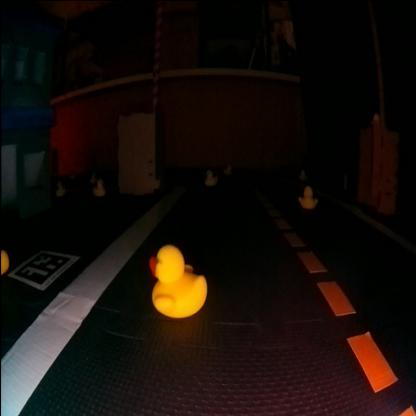Duckie: (150, 246, 206, 316), (299, 184, 318, 206), (2, 248, 10, 274), (93, 177, 104, 194), (54, 180, 66, 194), (204, 168, 214, 182), (224, 162, 232, 174)
QR code: (9, 250, 76, 288)
